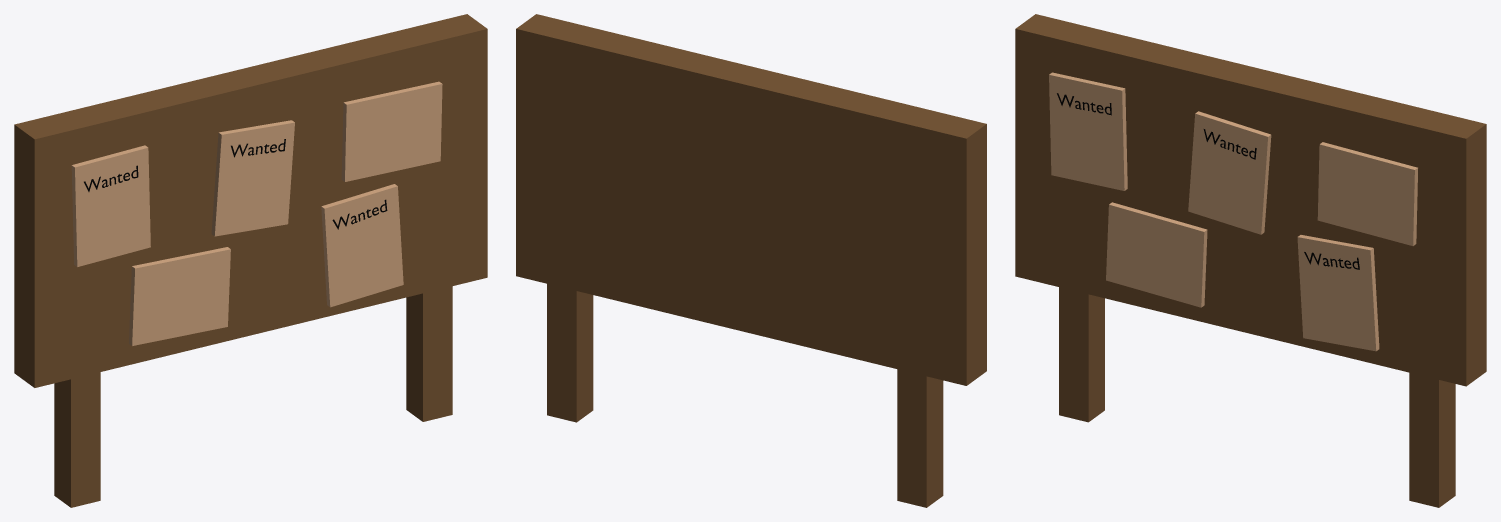
Rendered from Bord_AlexBlok.fbx.
3 views of the same model, side by side, from view 1: azimuth 30°, elevation 25°; view 2: azimuth 150°, elevation 25°; view 3: azimuth 330°, elevation 25° (orthographic).
Visible parts, largest first — view 1: Cube; view 2: Cube; view 3: Cube.
Boxes of the visible parts, box(x1,y1,x2,y2) form: Cube: box(14, 14, 487, 507); Cube: box(516, 14, 986, 507); Cube: box(1015, 14, 1486, 507).
Size of the model in its own units: 174 by 140 by 16.47.
